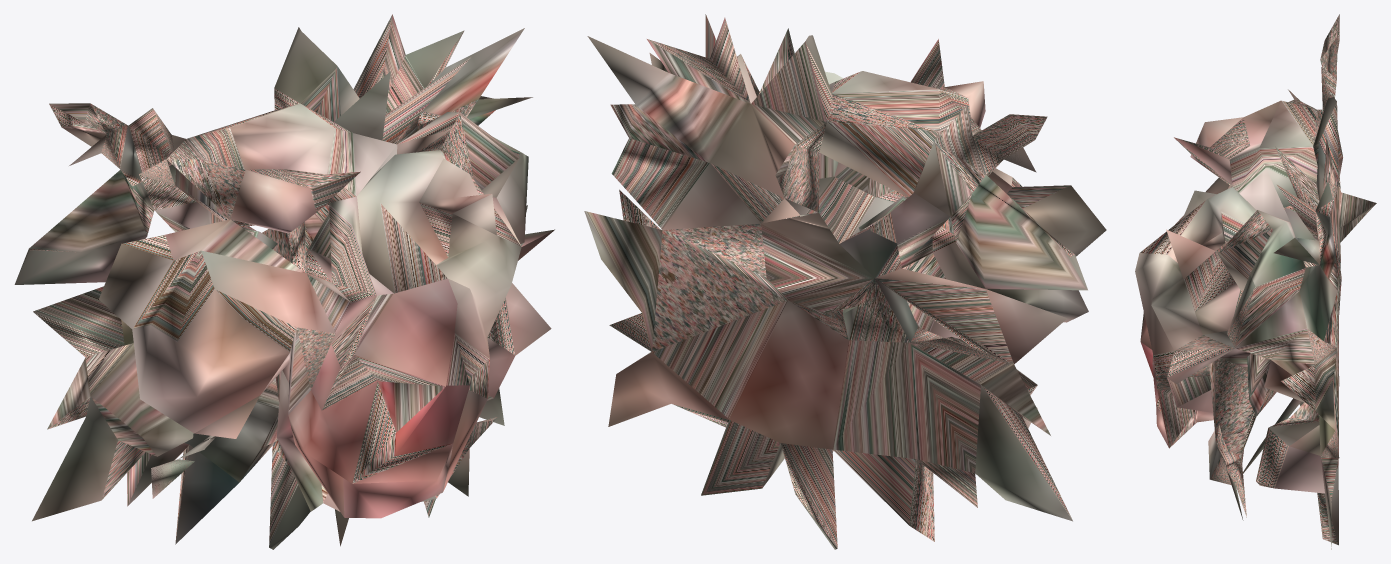
3 views of the same model, side by side, from view 1: azimuth 30°, elevation 25°; view 2: azimuth 150°, elevation 25°; view 3: azimuth 270°, elevation 25° (orthographic). The views are drawn at different scales.
Parts seen in each view (by area): view 1: Rose-Bouquet-9-20; view 2: Rose-Bouquet-9-20; view 3: Rose-Bouquet-9-20.
Part boxes in pixels (box(x1,y1,x2,y2)): Rose-Bouquet-9-20: box(14, 14, 554, 549); Rose-Bouquet-9-20: box(584, 14, 1106, 549); Rose-Bouquet-9-20: box(1135, 14, 1376, 549).
Bounding box in the file's own units: 0.2289 × 0.2203 × 0.1132.
Materials: 1 (1 with a texture image).
